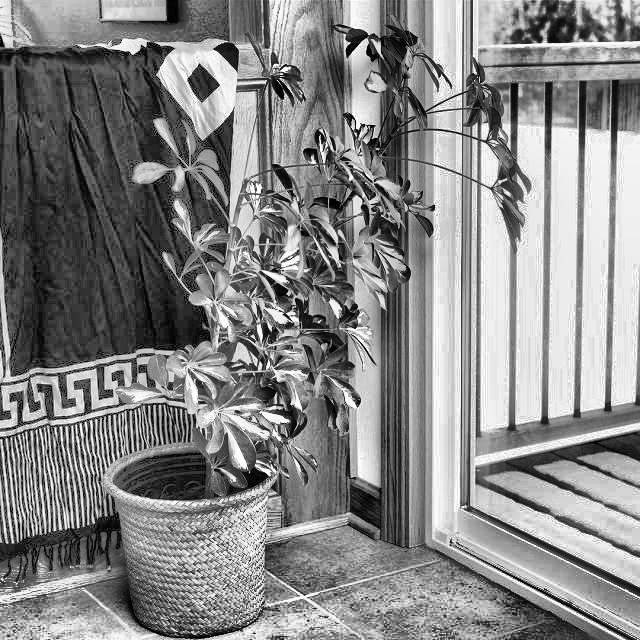plants: (134, 108, 412, 601)
